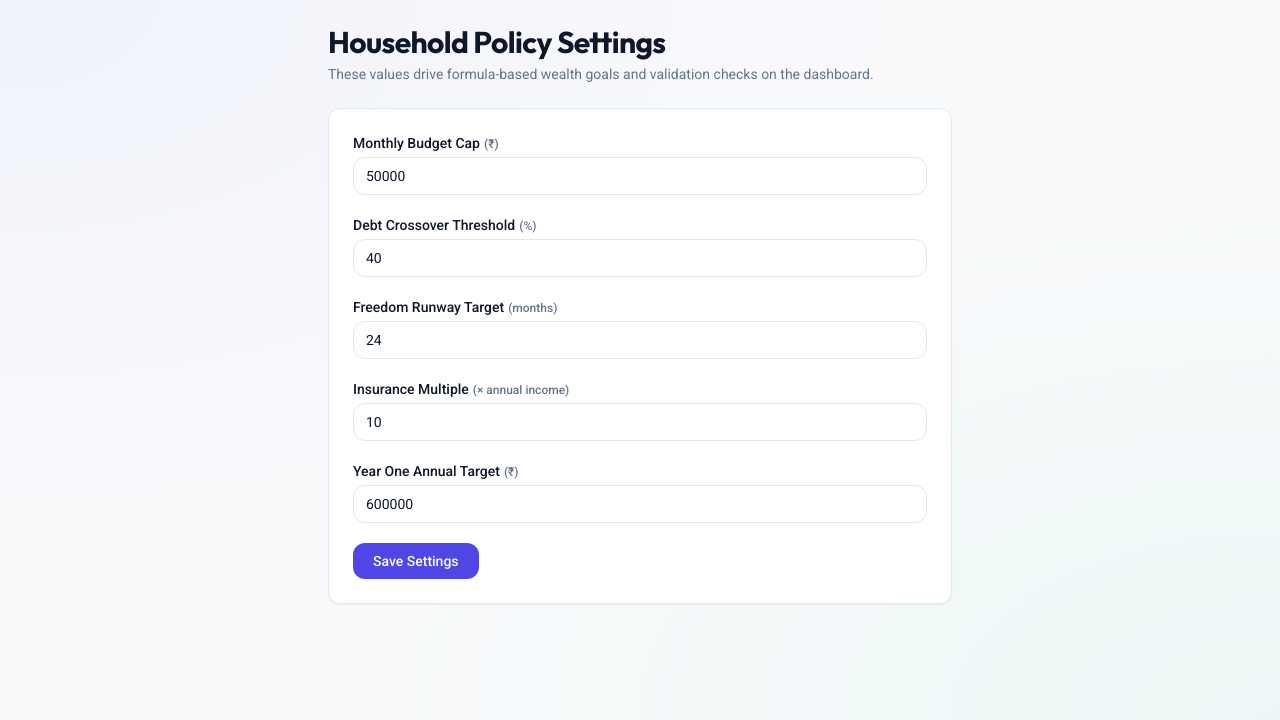
Test: PolicySettings › shows error message when API save fails
Check: the number field labelled "Monthly Budget Cap(₹)" is shown, box 353,157 -> 927,195
Click the button "Save Settings". click: [416, 561]
box: 353,543 -> 479,579
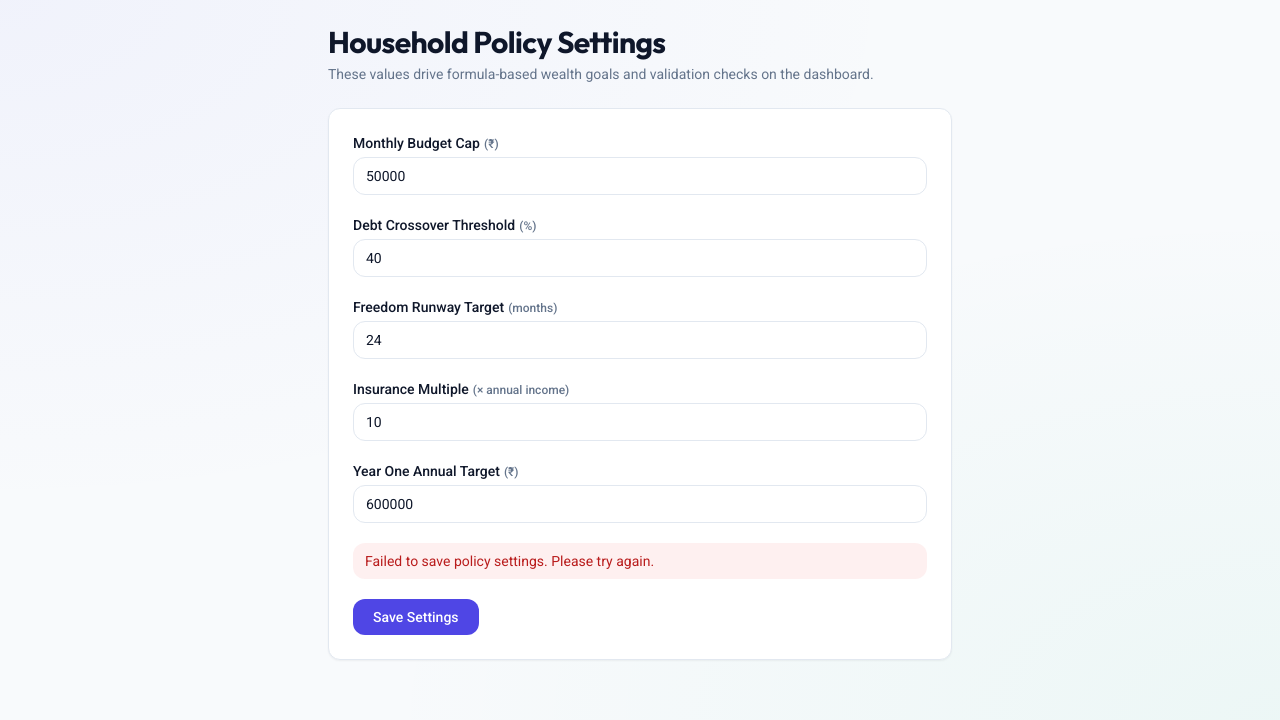
Check: the text "Failed to save policy settings. Please try again." is shown, box 353,543 -> 927,579
